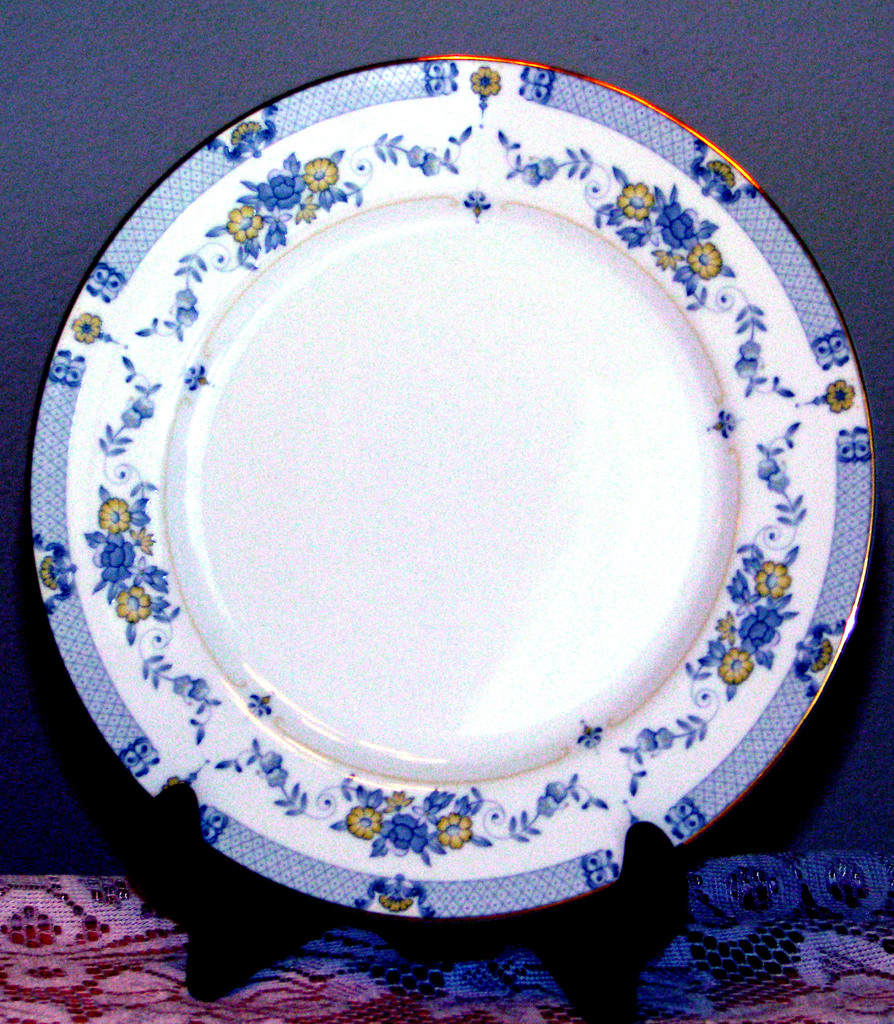plate: (28, 55, 873, 919)
